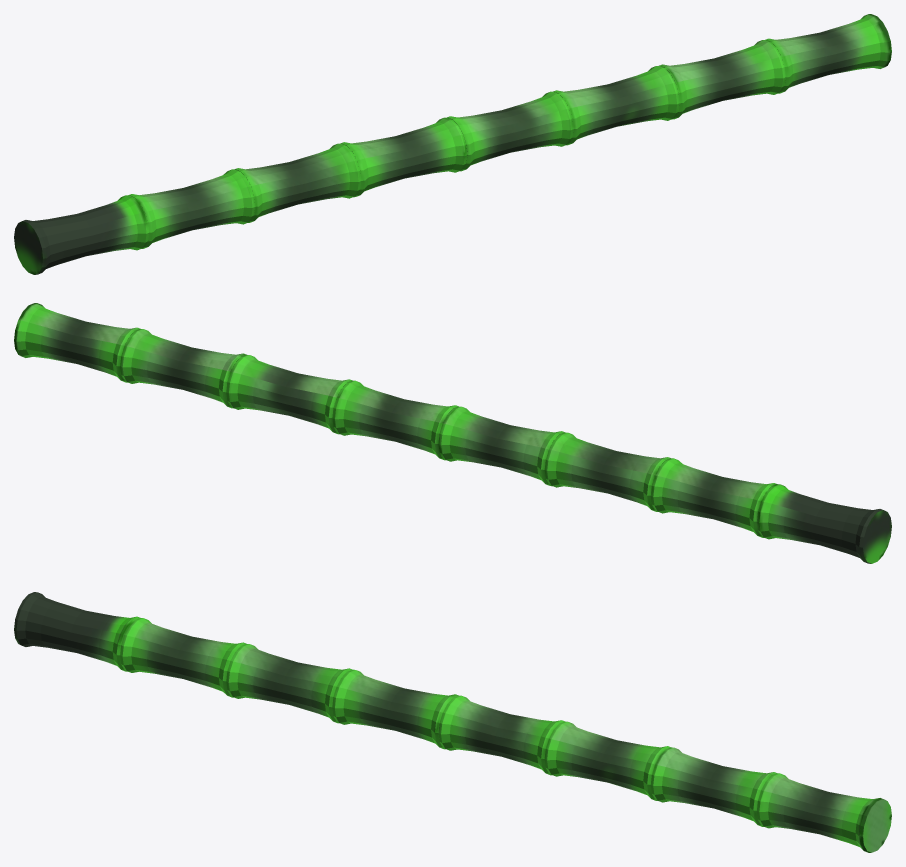
The model's file is ThrownBamboo.fbx.
3 renders of one model, top to bottom at view 1: azimuth 30°, elevation 25°; view 2: azimuth 150°, elevation 25°; view 3: azimuth 330°, elevation 25°, orthographic.
Parts seen in each view (by area): view 1: Cylinder_2; view 2: Cylinder_2; view 3: Cylinder_2.
Part boxes in pixels (x1,y1,x2,y2): Cylinder_2: (14, 14, 891, 274); Cylinder_2: (14, 303, 891, 563); Cylinder_2: (14, 592, 891, 852).
Bounding box in the file's own units: 1275 × 72.62 × 78.59.
Materials: 1 (1 with a texture image).
